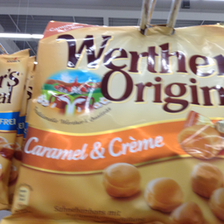candy: (27, 18, 221, 223)
